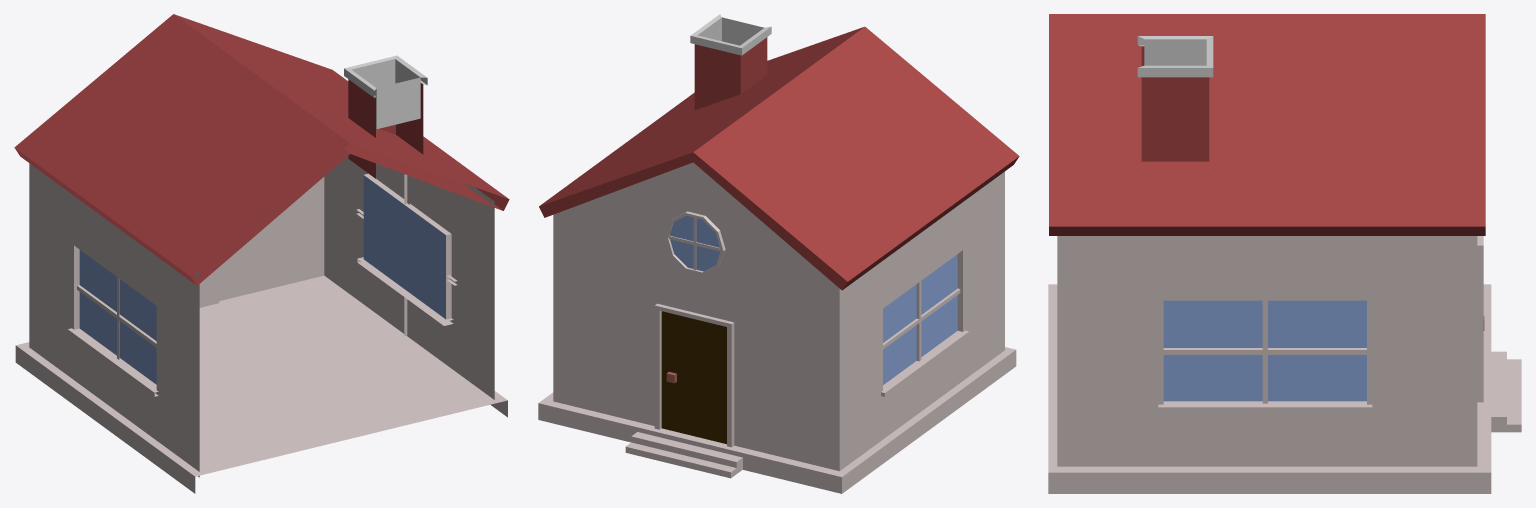
The model's file is HouseBroken.fbx.
3 renders of one model, left to right at view 1: azimuth 30°, elevation 25°; view 2: azimuth 150°, elevation 25°; view 3: azimuth 270°, elevation 25°, orthographic. The views are drawn at different scales.
Parts seen in each view (by area): view 1: House1; view 2: House1; view 3: House1.
Part boxes in pixels (x1,y1,x2,y2): House1: (14,14,509,493); House1: (538,14,1019,493); House1: (1048,14,1521,493).
Size of the model in its own units: 6.7 by 6.52 by 6.99.
